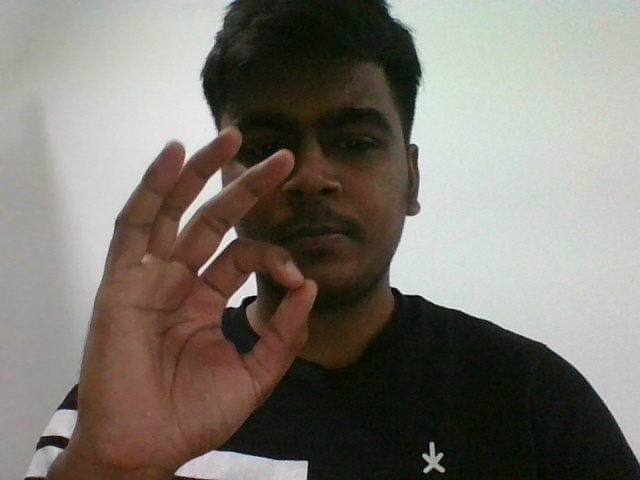ok: (82, 125, 313, 440)
